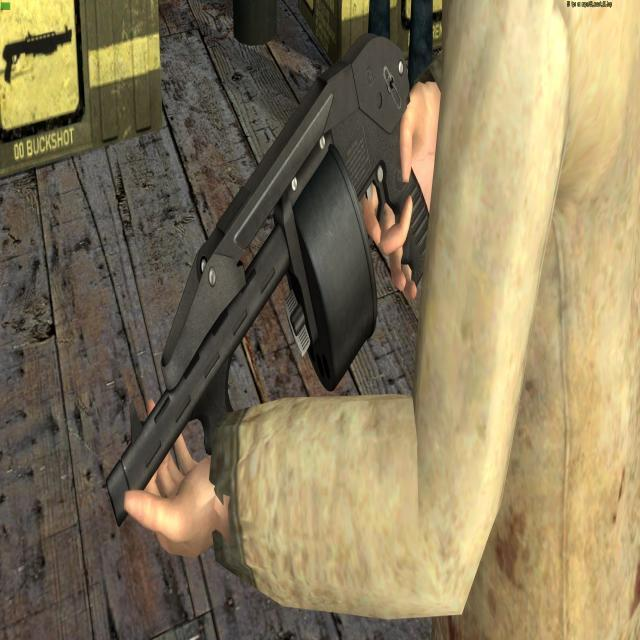shotgun: (72, 7, 444, 557)
